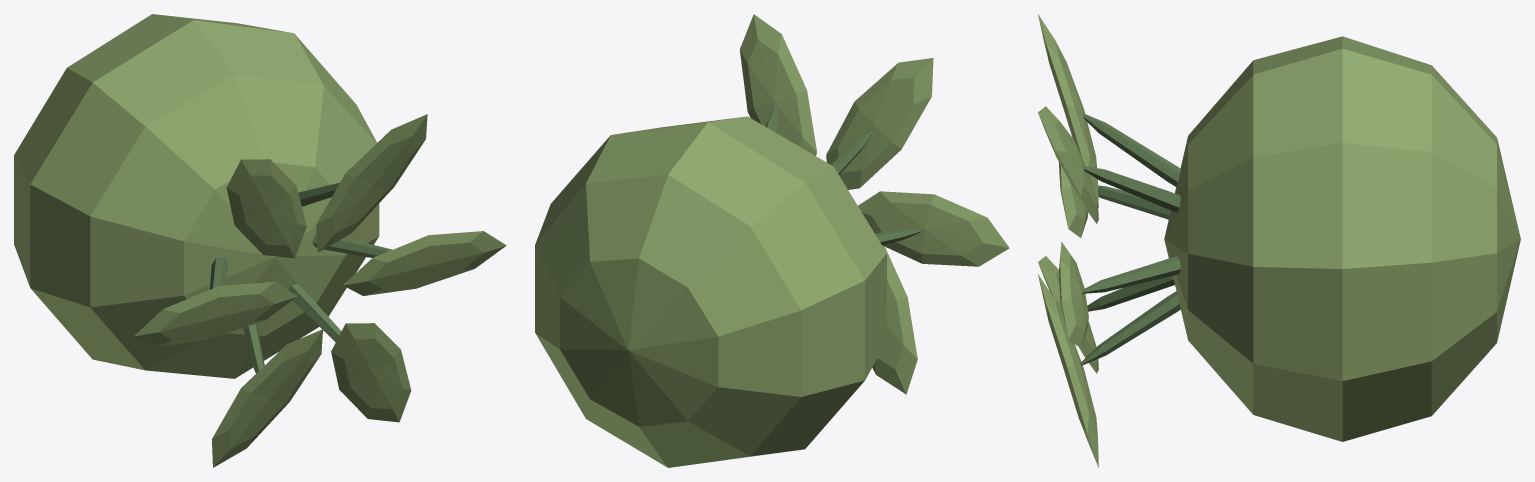
The model's file is kohlrabi.glb.
3 renders of one model, left to right at view 1: azimuth 30°, elevation 25°; view 2: azimuth 150°, elevation 25°; view 3: azimuth 270°, elevation 25°, orthographic. The views are drawn at different scales.
Parts seen in each view (by area): view 1: kohlrabi; view 2: kohlrabi; view 3: kohlrabi.
Part boxes in pixels (box(x1,y1,x2,y2)): kohlrabi: box(14, 14, 506, 467); kohlrabi: box(535, 14, 1009, 467); kohlrabi: box(1038, 14, 1520, 467).
Bounding box in the file's own units: 0.1044 × 0.0943 × 0.1083.
